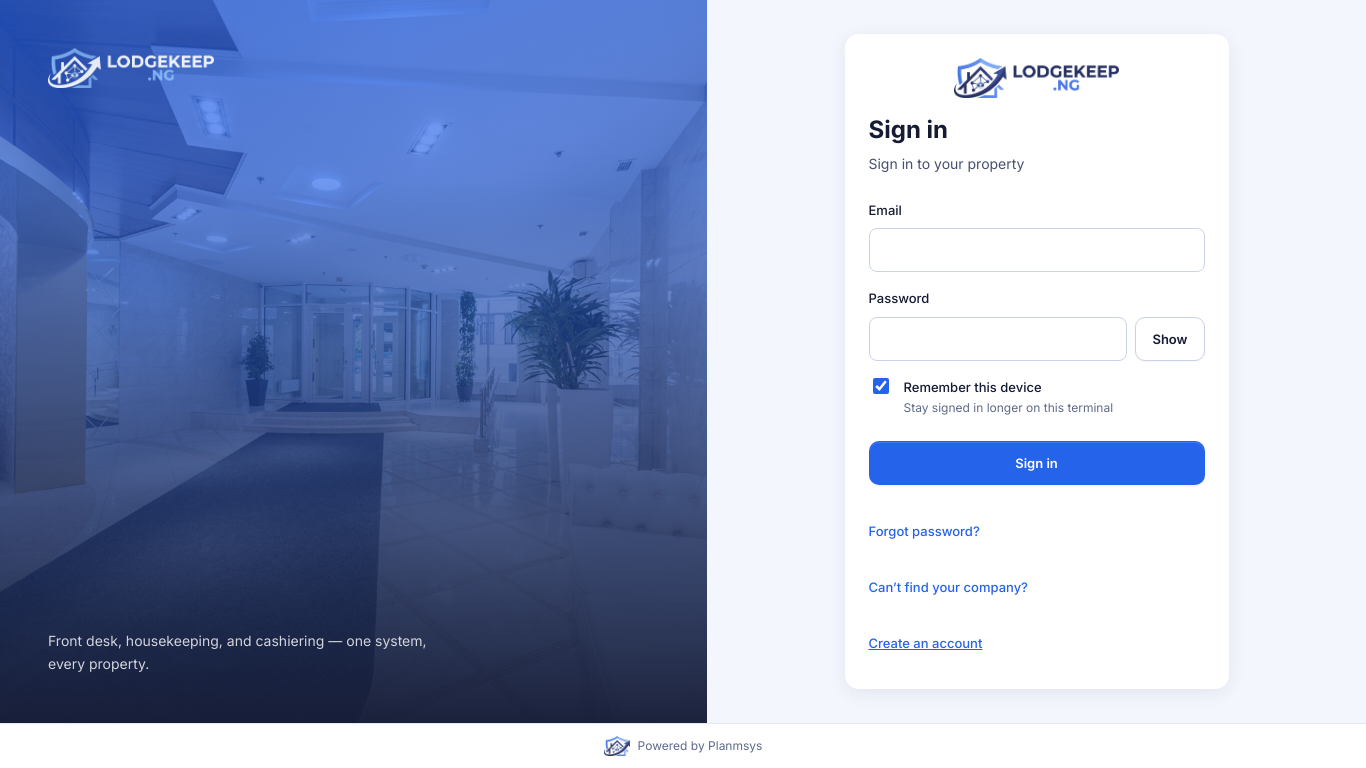
Test: <StaffLoginScreen> › shows an honest "not available" panel for find-my-company rather than a fake working flow
Click the button "Can’t find your company?": (948,587) x1=868 y1=565 x2=1028 y2=609
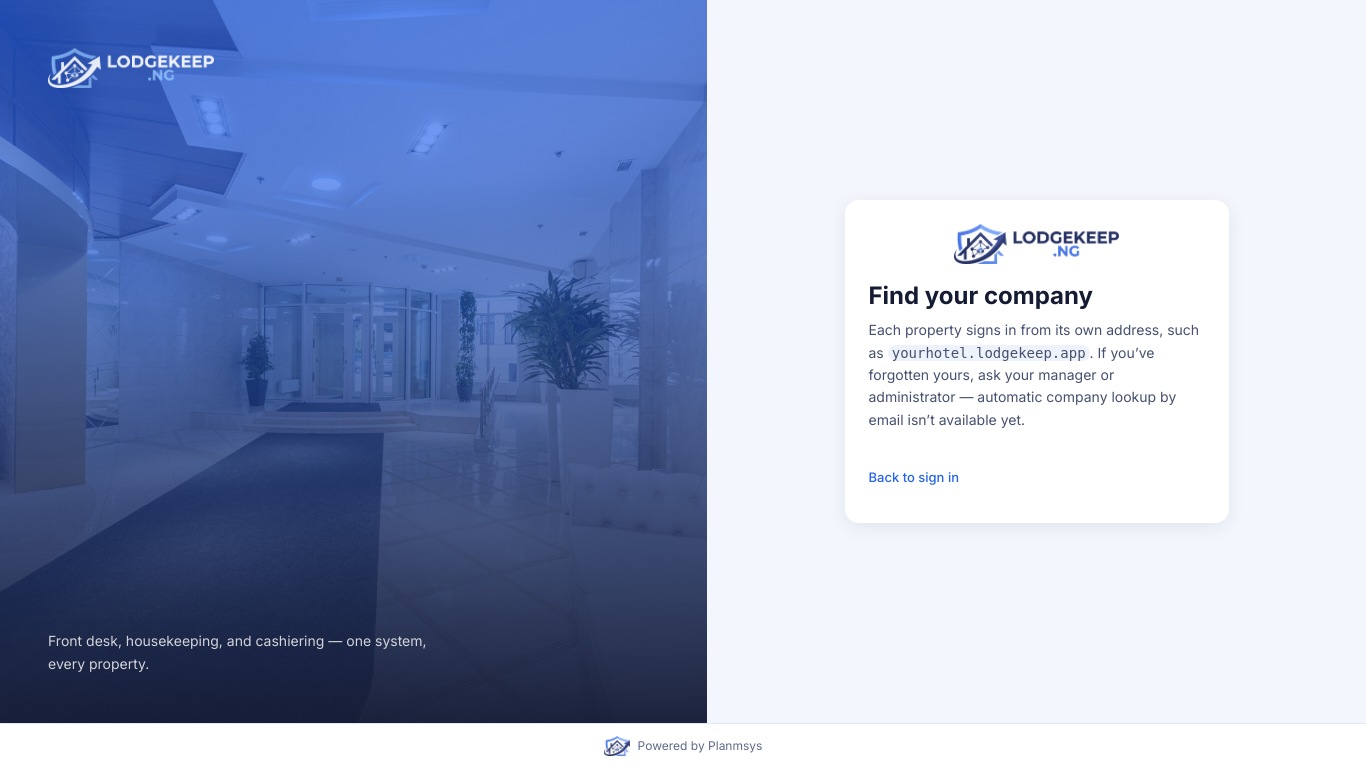
Expected: the text "company lookup by email isn.t available yet" is shown, x1=868 y1=344 x2=1176 y2=428
